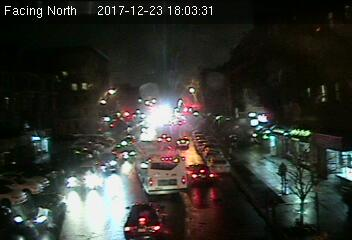bus: (133, 140, 188, 195)
car: (122, 202, 167, 238), (67, 164, 100, 190), (185, 163, 215, 186), (97, 151, 122, 172), (210, 156, 230, 173)
